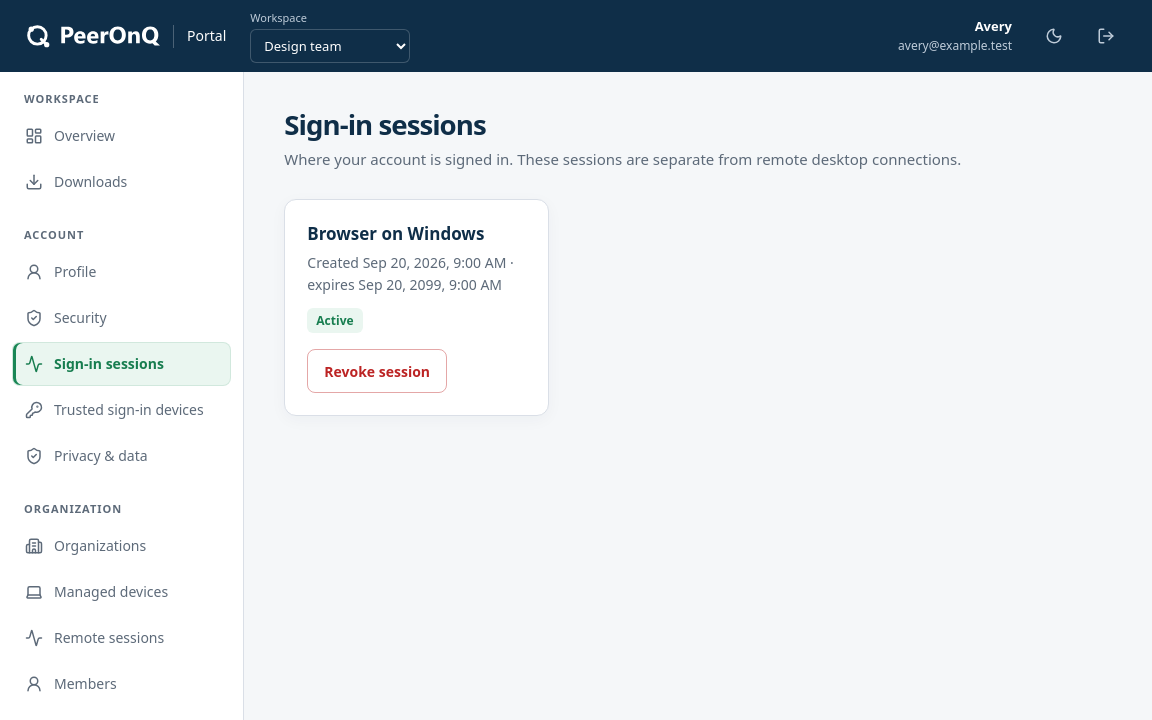
portal workspace › reports a rejected browser-session revocation instead of implying success
Click the button "Revoke session": coordinates (377, 371) x1=307 y1=349 x2=447 y2=393
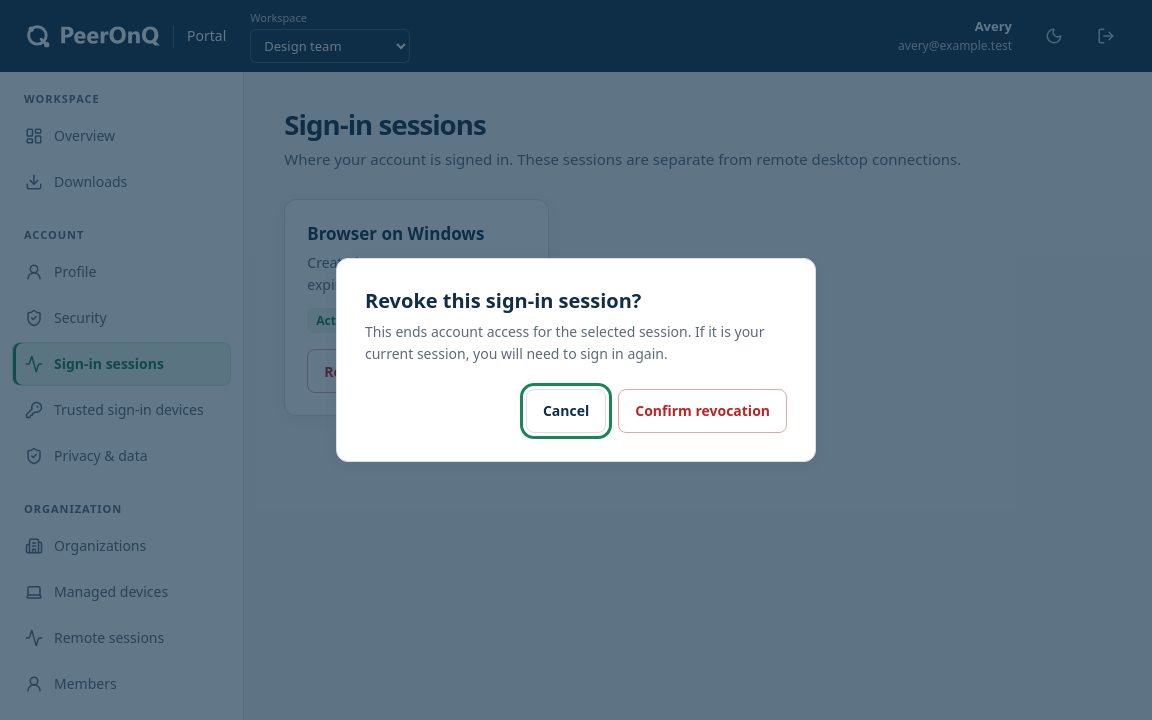
Click the button "Confirm revocation": coordinates (703, 411) x1=618 y1=389 x2=787 y2=433
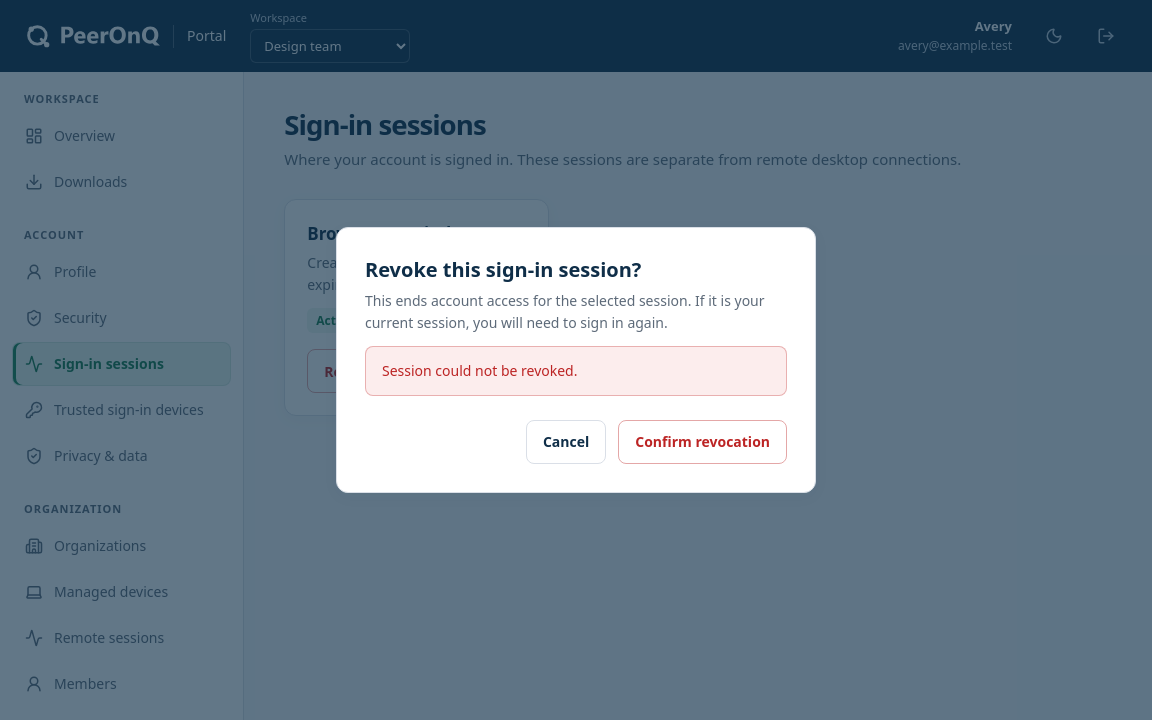
Expected: the text "Active" is shown, x1=307 y1=308 x2=363 y2=333
Expected: the message reads "Session could not be revoked.", x1=382 y1=361 x2=578 y2=380
